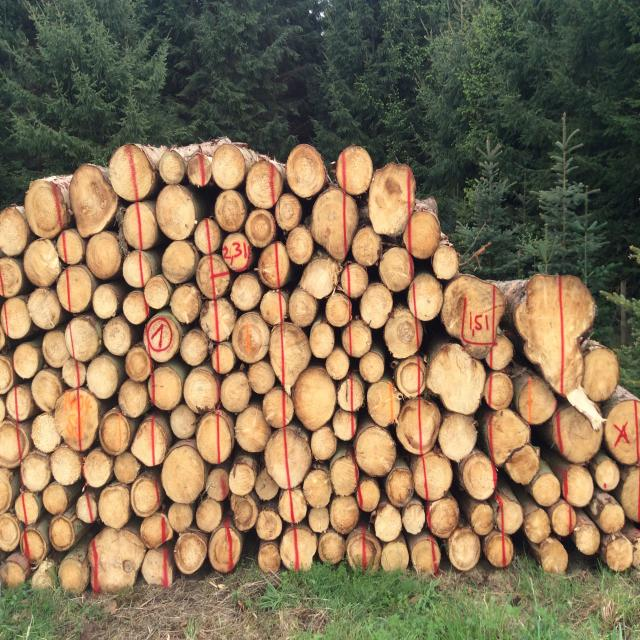wood-log: (515, 276, 596, 393), (429, 344, 489, 413), (67, 164, 117, 237), (91, 528, 146, 594), (366, 164, 416, 236), (312, 190, 358, 262), (264, 428, 312, 490), (294, 366, 338, 433), (108, 143, 159, 200), (552, 406, 602, 464), (160, 441, 206, 503), (54, 391, 100, 453), (269, 324, 311, 390), (484, 408, 529, 465), (24, 179, 66, 239), (397, 398, 441, 454), (130, 408, 172, 465), (605, 398, 640, 464), (355, 425, 398, 478), (156, 186, 198, 240), (283, 143, 325, 197), (195, 409, 235, 463), (516, 376, 558, 427), (232, 311, 271, 363), (23, 240, 64, 289), (412, 450, 452, 500), (384, 306, 422, 358), (580, 348, 618, 400), (86, 230, 125, 280), (440, 413, 480, 461), (404, 211, 443, 260), (56, 266, 95, 314), (337, 144, 374, 194), (279, 525, 319, 571), (122, 201, 160, 249), (234, 403, 271, 452), (245, 158, 281, 208), (143, 314, 179, 363), (378, 248, 416, 294), (367, 378, 402, 427), (182, 367, 220, 412), (195, 254, 232, 300), (258, 241, 292, 291), (409, 272, 444, 320), (461, 451, 496, 499), (68, 316, 103, 363), (212, 143, 247, 190), (209, 522, 242, 571), (358, 282, 393, 328), (200, 298, 238, 340), (151, 364, 184, 411), (87, 353, 122, 397), (100, 410, 133, 456), (302, 256, 338, 298), (161, 240, 197, 282), (409, 533, 442, 578), (174, 528, 206, 574), (99, 482, 131, 528), (427, 496, 461, 539), (562, 464, 595, 508), (0, 207, 29, 257), (395, 398, 420, 455), (448, 525, 480, 569), (28, 288, 61, 330), (31, 369, 63, 412), (507, 444, 541, 484), (217, 191, 249, 233), (169, 283, 202, 323), (20, 450, 52, 491), (29, 415, 62, 454), (52, 444, 84, 484), (385, 463, 414, 507), (220, 371, 251, 412), (0, 296, 30, 338), (330, 456, 361, 496), (181, 329, 213, 367), (330, 496, 362, 534), (221, 230, 253, 268), (342, 317, 372, 357), (303, 468, 333, 508), (419, 397, 440, 454), (538, 535, 569, 573), (132, 474, 160, 516), (286, 226, 316, 265), (59, 554, 89, 593), (263, 385, 290, 428), (289, 286, 318, 326), (620, 466, 640, 524), (347, 524, 372, 570), (119, 380, 149, 418), (84, 449, 114, 487), (102, 316, 131, 355), (41, 328, 70, 367), (4, 386, 35, 422), (484, 529, 514, 566), (124, 252, 154, 289), (194, 218, 224, 255), (397, 357, 424, 398), (375, 504, 404, 542), (248, 208, 277, 246), (352, 228, 381, 266), (486, 371, 514, 410), (339, 369, 365, 411), (309, 320, 336, 360), (232, 274, 262, 310), (140, 512, 170, 548), (606, 534, 634, 572), (230, 493, 258, 531), (12, 341, 40, 379), (143, 548, 171, 586), (530, 472, 560, 507), (276, 488, 306, 523), (126, 344, 155, 380), (93, 282, 122, 318), (311, 426, 339, 463), (524, 508, 552, 545), (246, 361, 276, 395), (58, 228, 85, 265), (275, 194, 301, 232), (231, 460, 257, 498), (124, 291, 153, 325), (169, 404, 197, 439), (434, 244, 461, 280), (160, 150, 187, 186), (487, 335, 514, 371), (112, 450, 141, 483), (0, 421, 20, 468), (197, 499, 224, 533), (360, 349, 387, 383), (321, 528, 346, 564), (205, 466, 230, 502), (145, 276, 173, 308), (381, 539, 408, 572), (326, 294, 352, 328), (254, 468, 280, 502), (0, 258, 22, 298), (355, 478, 380, 513), (594, 456, 619, 491), (574, 523, 602, 554), (344, 263, 368, 299), (17, 490, 42, 524), (259, 506, 283, 541), (44, 482, 70, 514), (210, 340, 236, 372), (168, 501, 194, 533), (23, 527, 46, 563), (0, 514, 21, 553), (471, 500, 495, 534), (260, 291, 284, 325), (598, 502, 623, 534), (325, 347, 350, 378), (332, 410, 357, 441), (403, 501, 426, 534), (501, 502, 524, 535), (552, 498, 572, 535), (52, 516, 74, 549), (0, 299, 16, 344), (259, 541, 282, 572), (62, 357, 84, 388), (0, 353, 14, 395), (308, 508, 330, 534), (0, 468, 11, 512), (0, 325, 9, 351)
